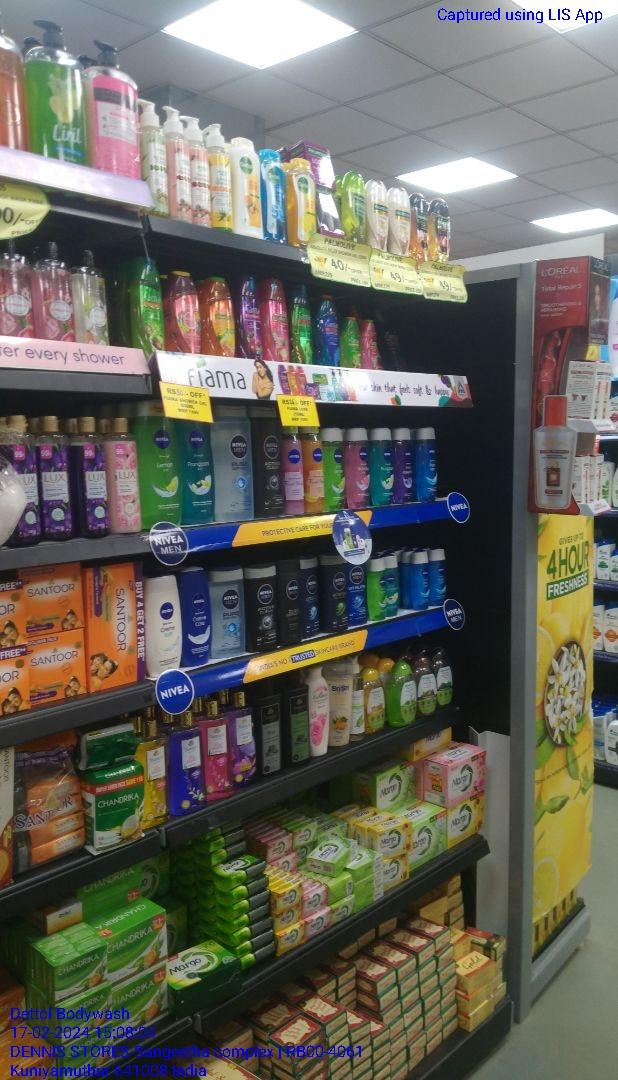Dettol_Bodywash_Cool: (264, 145, 288, 243)
Dettol_Bodywash_Refresh: (289, 158, 317, 247)
Dettol_Nourish_Body_Wash_250ML: (229, 137, 263, 236)
Fiama_Shower_Gel_Patchouli_and_Macadamia_250ML: (166, 269, 201, 355), (363, 321, 383, 375)
Fiama_Shower_Gel_Peach_and_Avocado_250ML: (201, 275, 235, 356)
Lux_Black_Orchid_Scent_and_Juniper_Oil_Body_Wash_245ML: (6, 419, 42, 543), (76, 416, 110, 538), (42, 412, 67, 539)
Nivea_Creme_Care_Body_Wash_250ML: (183, 564, 211, 664)
Nivea_Creme_Soft_Body_Wash_250ML: (147, 571, 182, 673)
Nivea_Shower_Gel_Frangipani_and_Oil_250ML: (369, 426, 396, 506)
Nivea_Shower_Gel_Lemon_and_Oil_250ML: (322, 426, 347, 515)
Nivea_Shower_Gel_Waterlily_and_Oil_250ML: (347, 425, 370, 509)
Palmolive_Aroma_Morning_Tonic_Shower_Gel_250ML: (344, 171, 368, 250)
Palmolive_Coconut_Joy_Exfoliating_Body_Wash_250ML: (369, 178, 389, 252), (390, 185, 410, 257)
Palmolive_Luminous_Oils_Invigorating_Macadamia_Oil_With_Peony_250ML: (429, 196, 450, 264), (412, 195, 429, 264)
